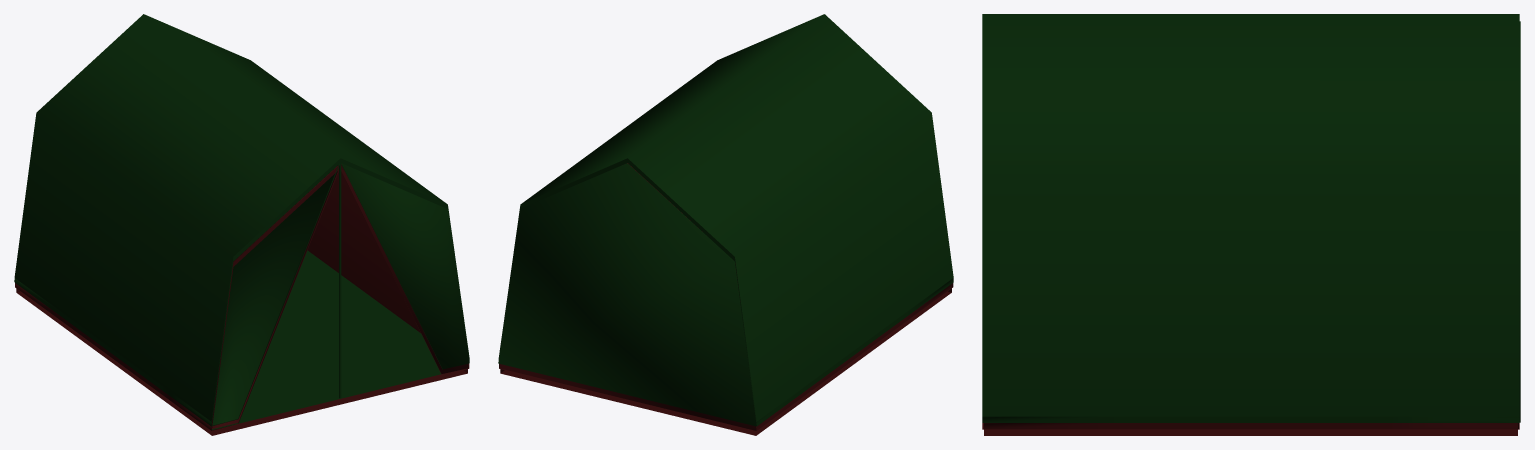
Rendered from LBSR_Tent_big.fbx.
3 renders of one model, left to right at view 1: azimuth 30°, elevation 25°; view 2: azimuth 150°, elevation 25°; view 3: azimuth 270°, elevation 25°, orthographic. The views are drawn at different scales.
Parts seen in each view (by area): view 1: covers, interior, front flap1, front flap 2, floor, rod; view 2: covers, back, interior, floor; view 3: covers, interior, back, floor.
Boxes of the visible parts, x1,y1,x2,y2 form: covers: (14, 14, 469, 426); interior: (15, 164, 468, 435); front flap1: (341, 163, 469, 369); front flap 2: (212, 164, 339, 425); floor: (15, 283, 469, 431); rod: (339, 163, 341, 398); covers: (498, 14, 953, 426); back: (498, 163, 756, 426); interior: (499, 163, 952, 435); floor: (499, 283, 953, 431); covers: (982, 14, 1519, 422); interior: (984, 423, 1518, 435); back: (1519, 21, 1520, 422); floor: (982, 423, 1519, 429).
Size of the model in its own units: 6.37 by 5.83 by 8.43.
